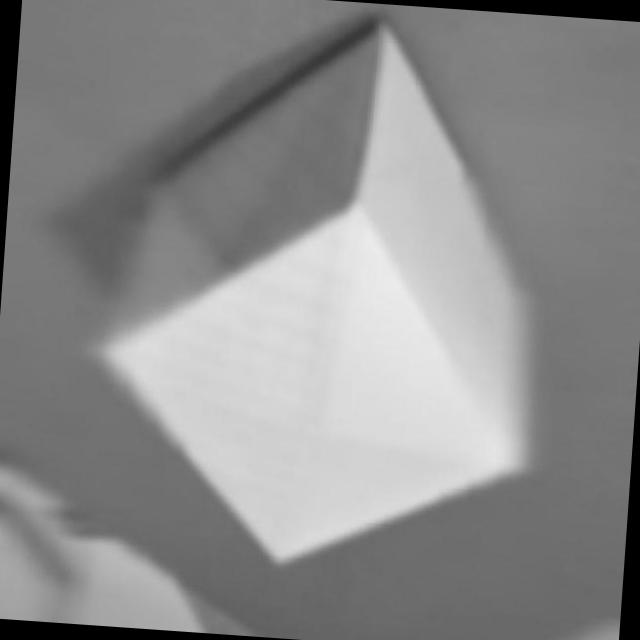box: (84, 1, 555, 572)
